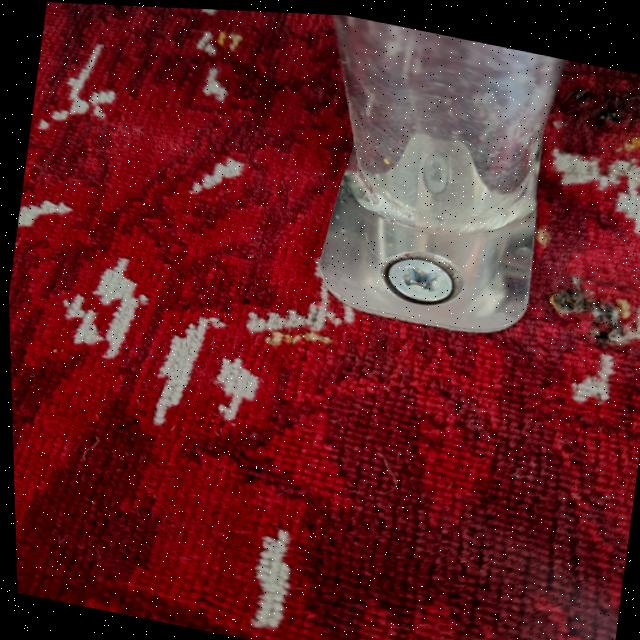Phillips: (388, 253, 453, 305)
